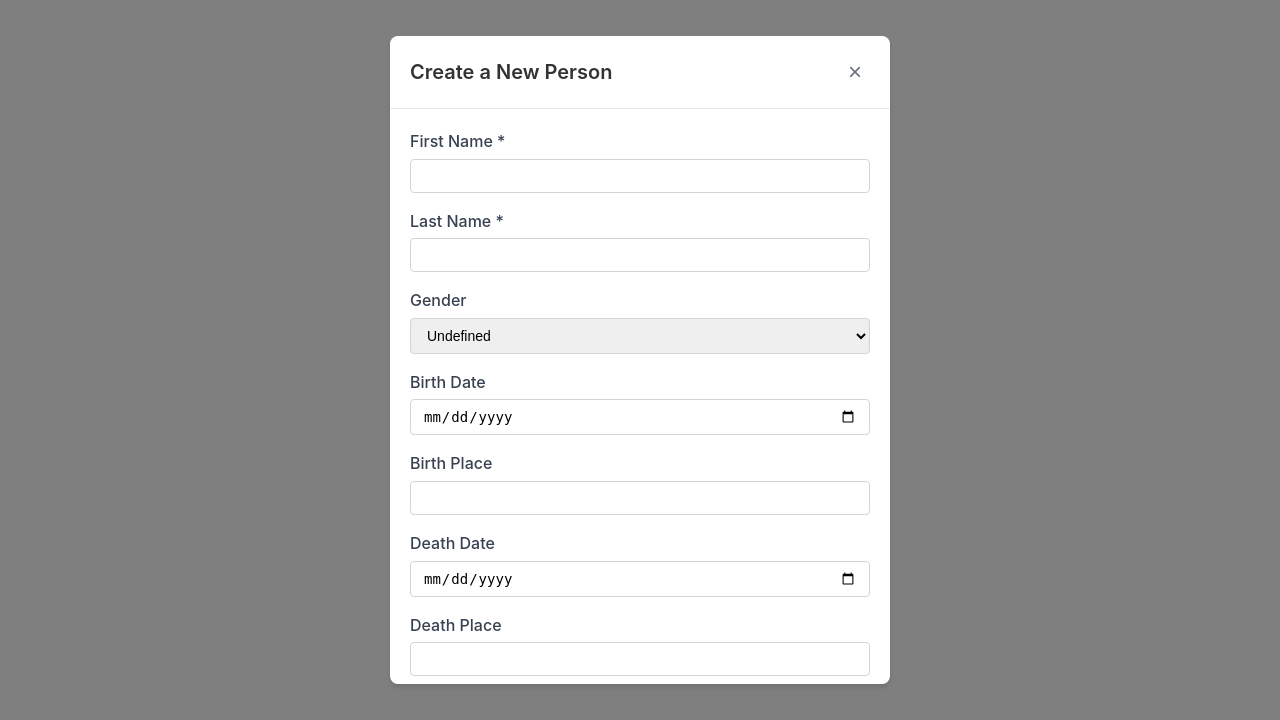
it: CreatePersonModal › Person creation › should show error message when person creation fails
The image size is (1280, 720).
Type "Jean" into the field with test id "new-person-first-name" at (640, 176), box x1=410 y1=159 x2=870 y2=193
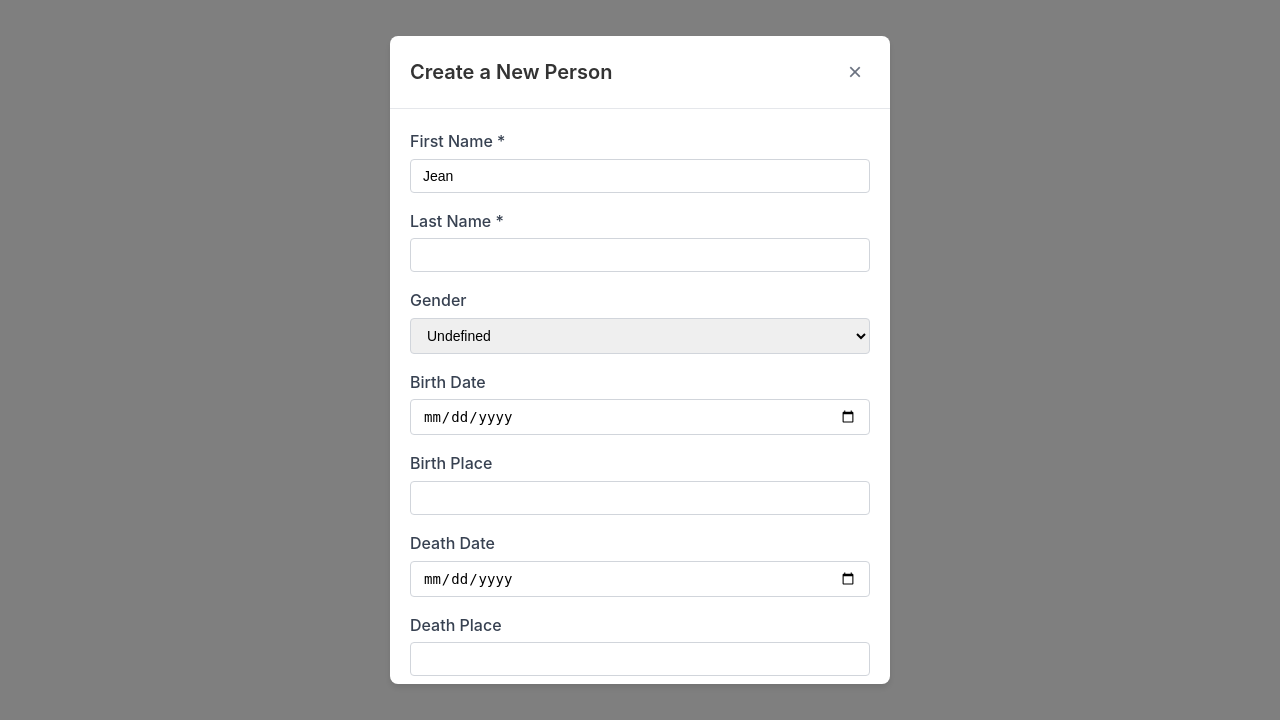
Type "Dupont" into the field with test id "new-person-last-name" at (640, 255), box x1=410 y1=238 x2=870 y2=272
(page scrolled)
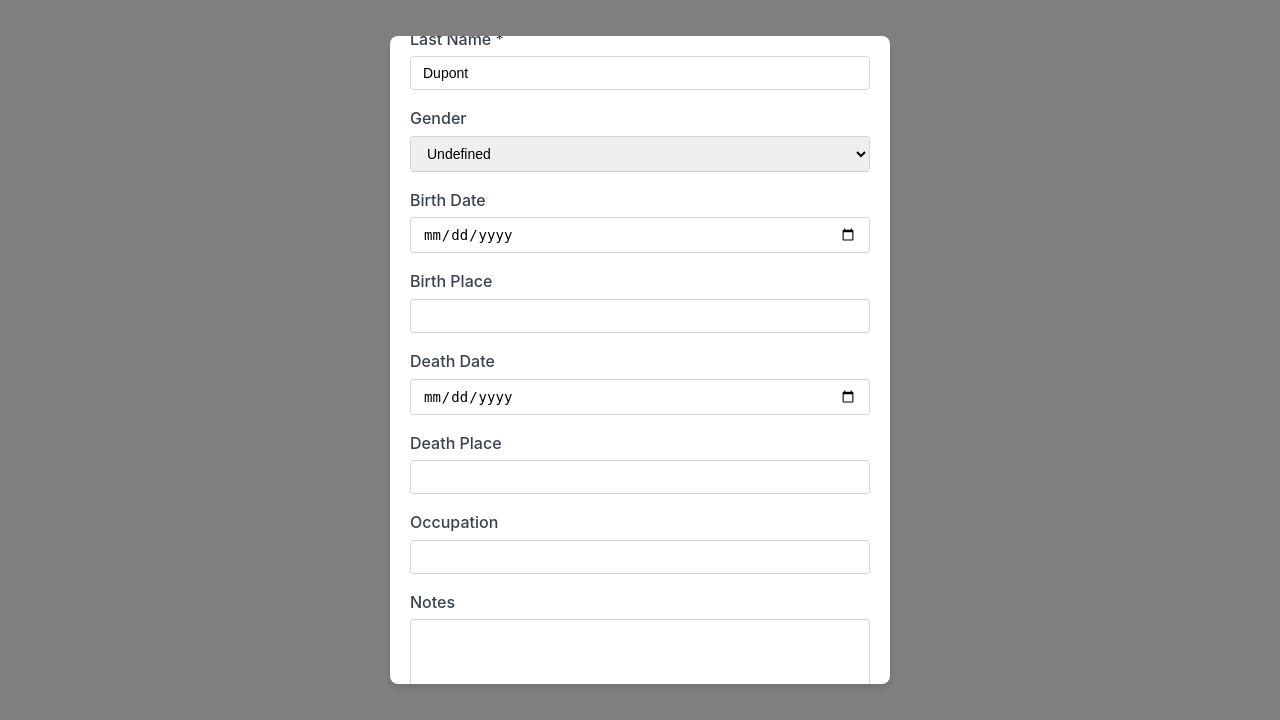
Submit the form
(page scrolled)
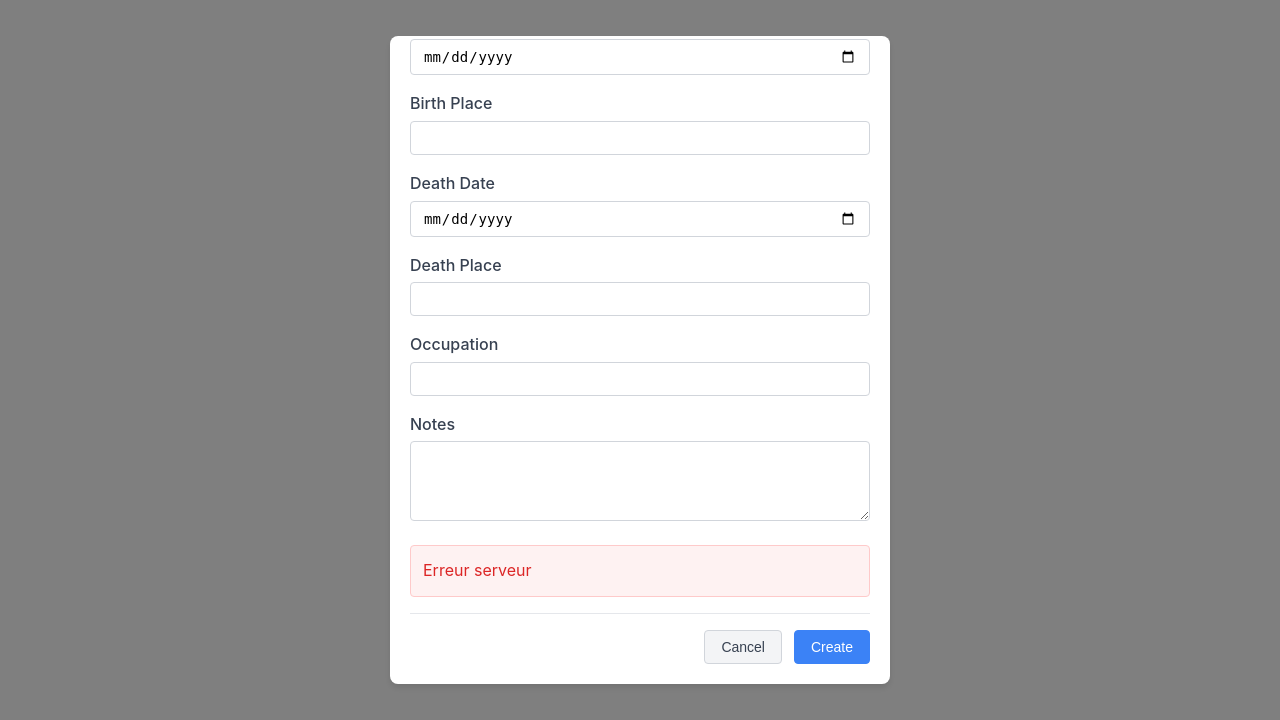
Expected: the text "Erreur serveur" is shown, x1=410 y1=545 x2=870 y2=596
Expected: the text with class "field-error" reads "Erreur serveur", x1=423 y1=560 x2=532 y2=580
